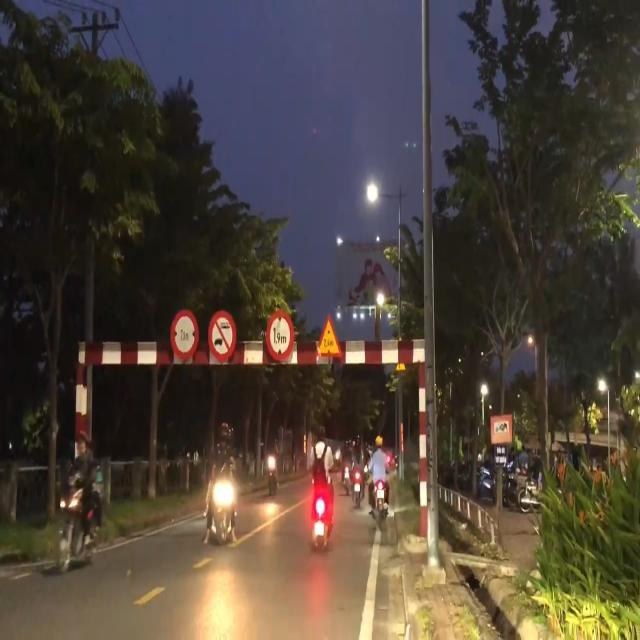Bien bao cam xe oto khach va xe oto tai: (205, 303, 238, 362)
Bien bao chieu cao tinh khong thuc te: (316, 314, 346, 366)
Bien bao han che chieu cao: (264, 309, 296, 374)
